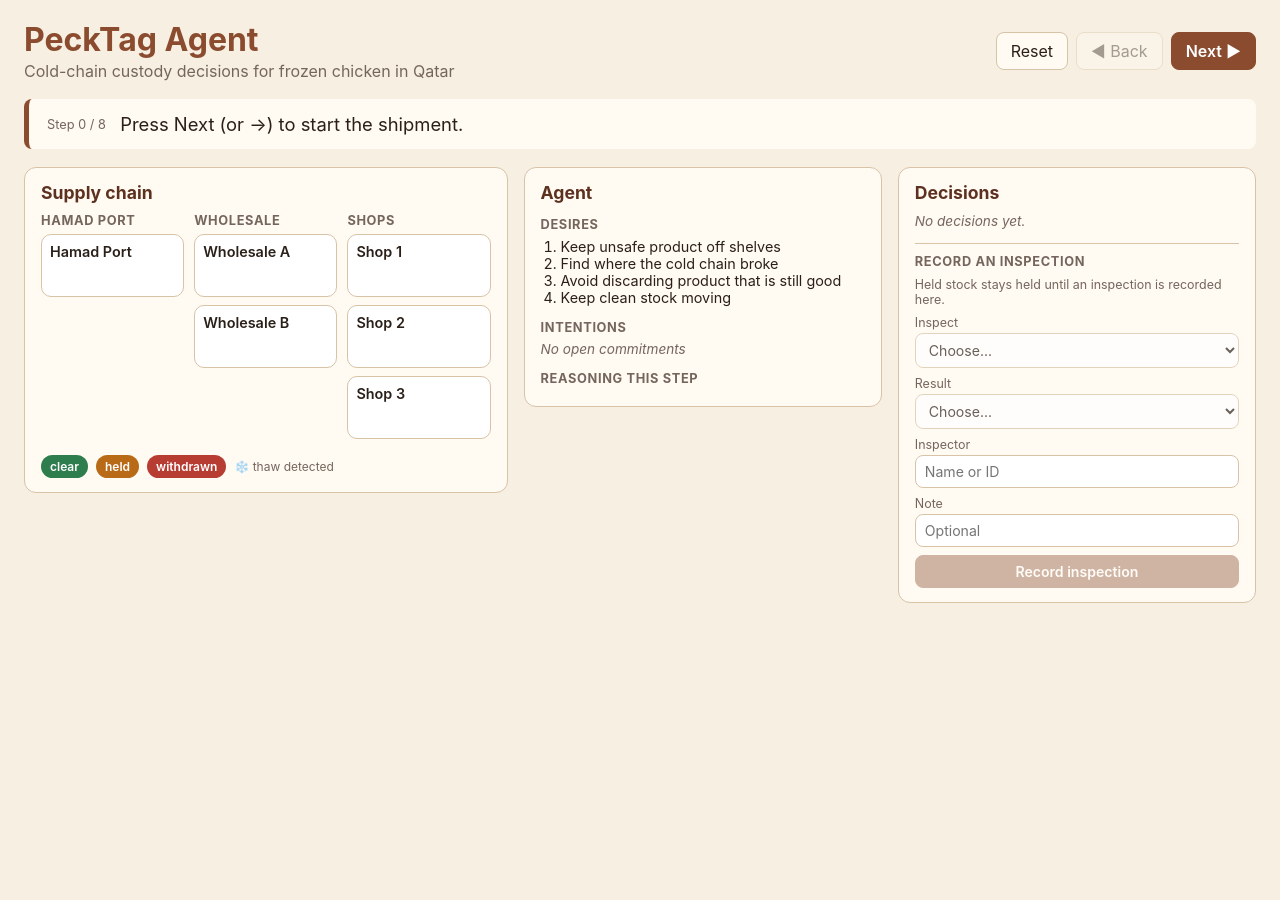
Test: typing a space in the inspector note does not advance the demo
The image size is (1280, 900).
Click the button "Next ▶" at {"x": 1213, "y": 50}, box [1171,32,1256,70]
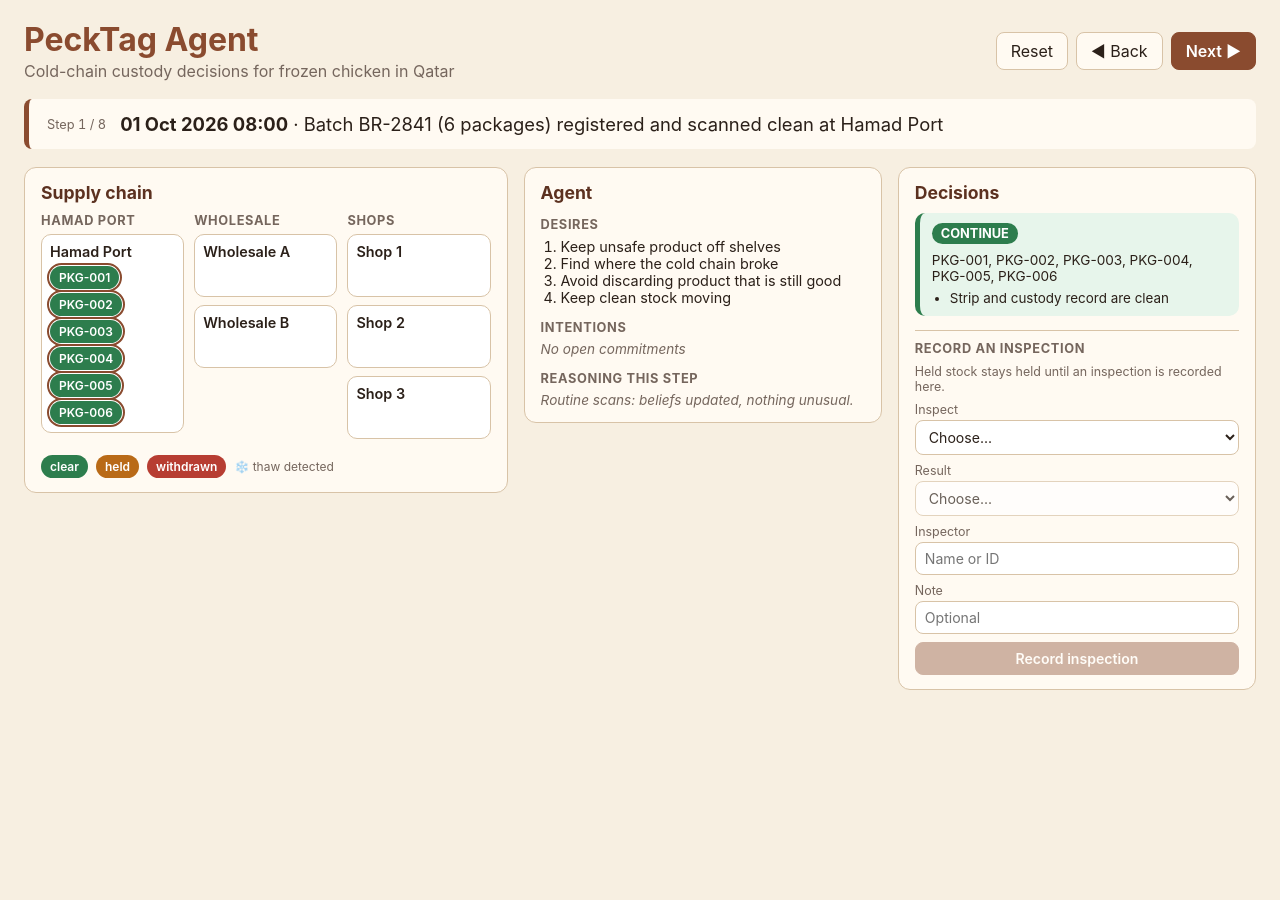
Press Space in the field labelled "Note", box [915,601,1239,634]
Now the text "Step 1 / 8" is shown, box [47,116,106,132]
Press Space
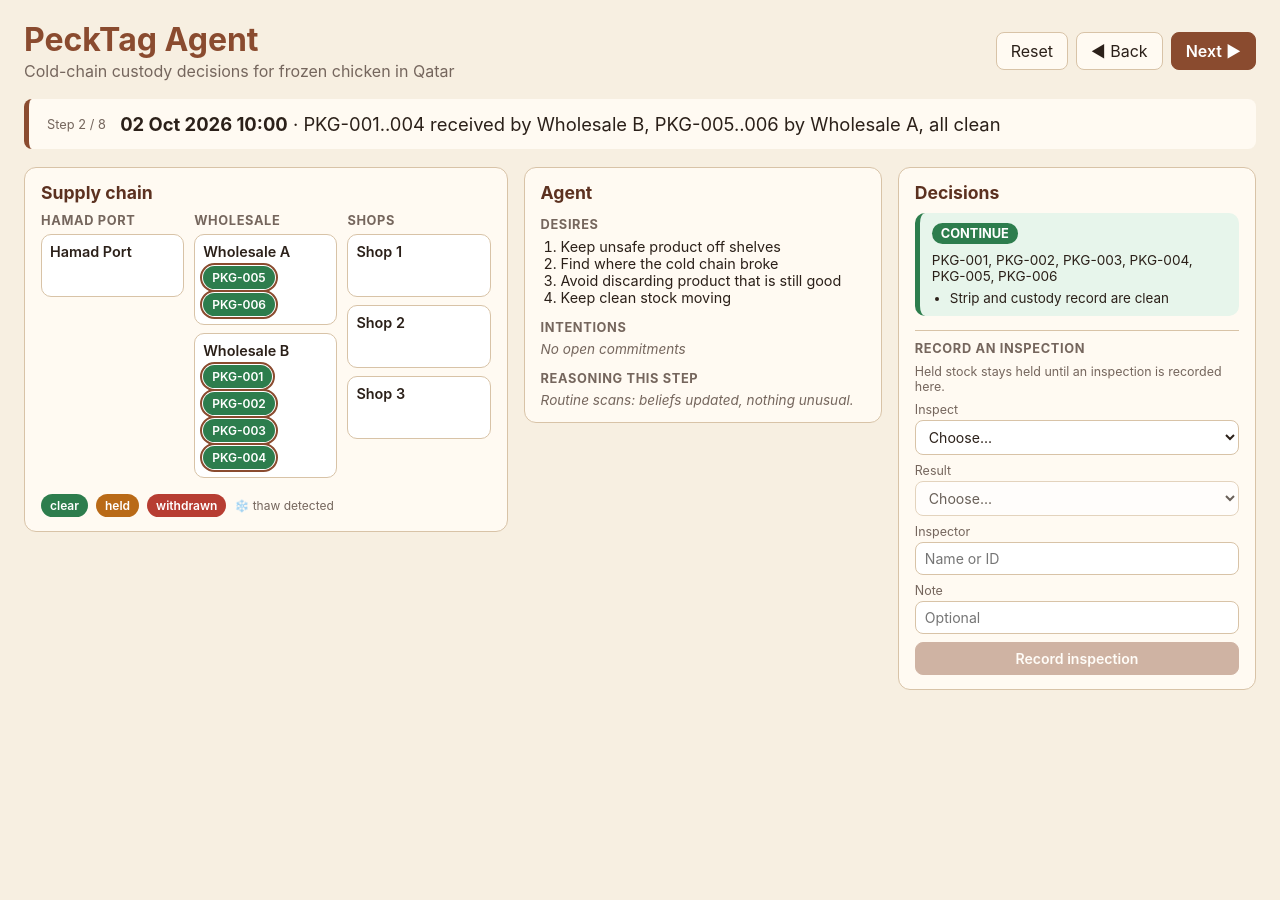
Now the text "Step 2 / 8" is shown, box [47,116,106,132]
